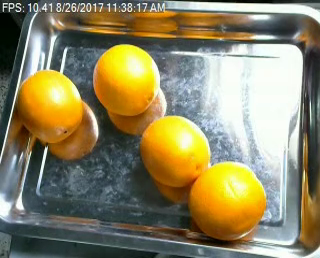Orange: (189, 160, 268, 240), (139, 115, 211, 186), (91, 44, 160, 116), (17, 69, 83, 142)
